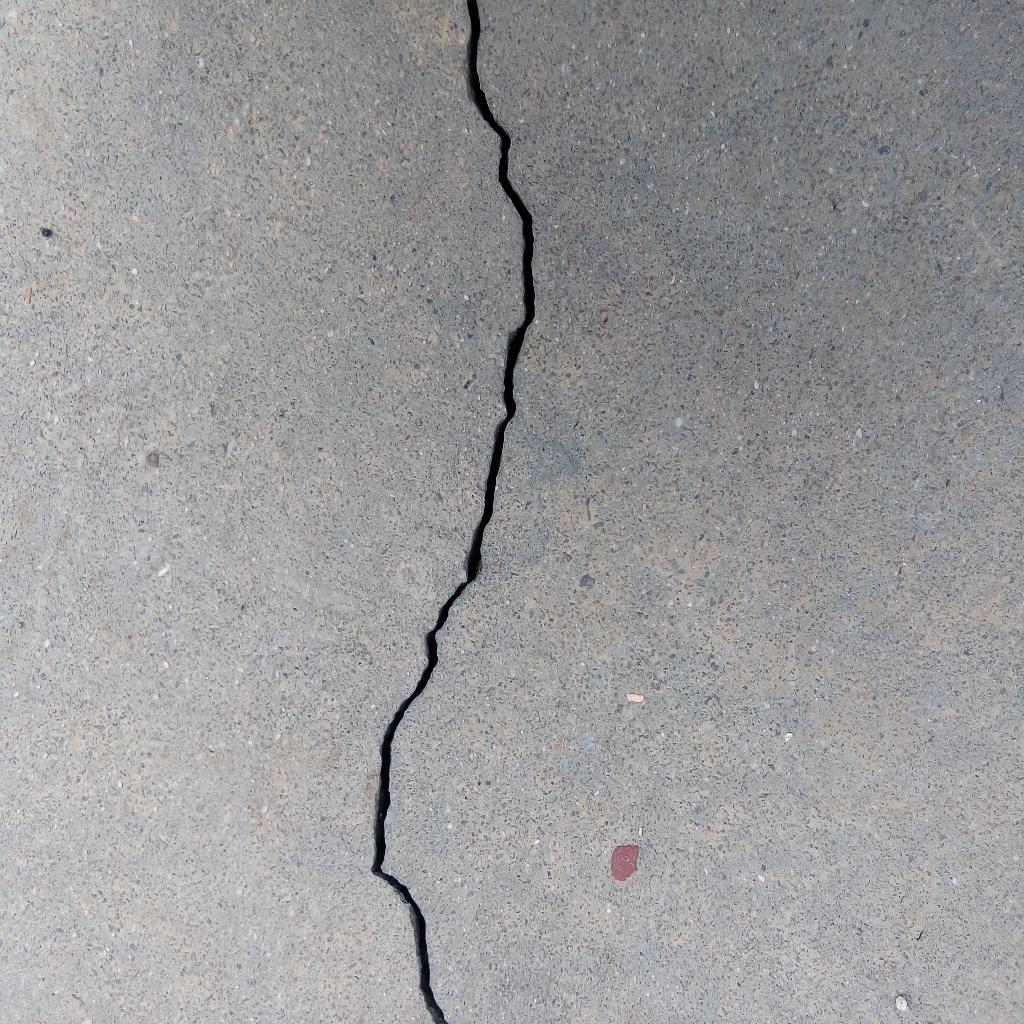Crack: (367, 1, 539, 1024)
